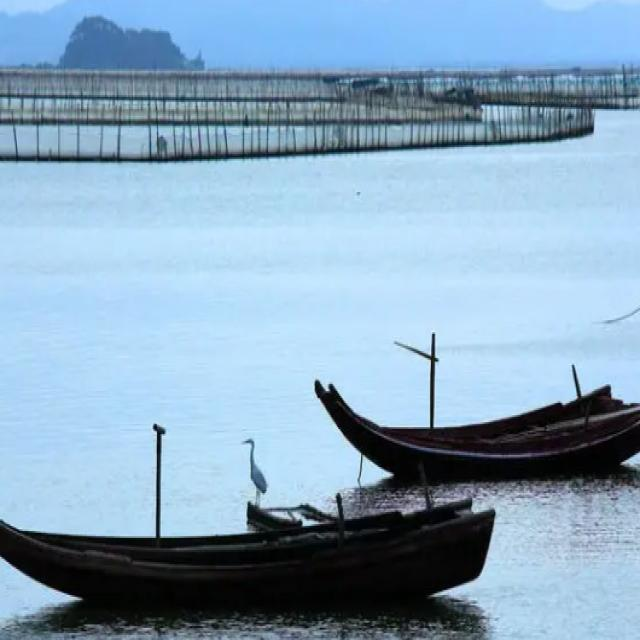fishing boat: (0, 415, 493, 611), (314, 318, 640, 474)
